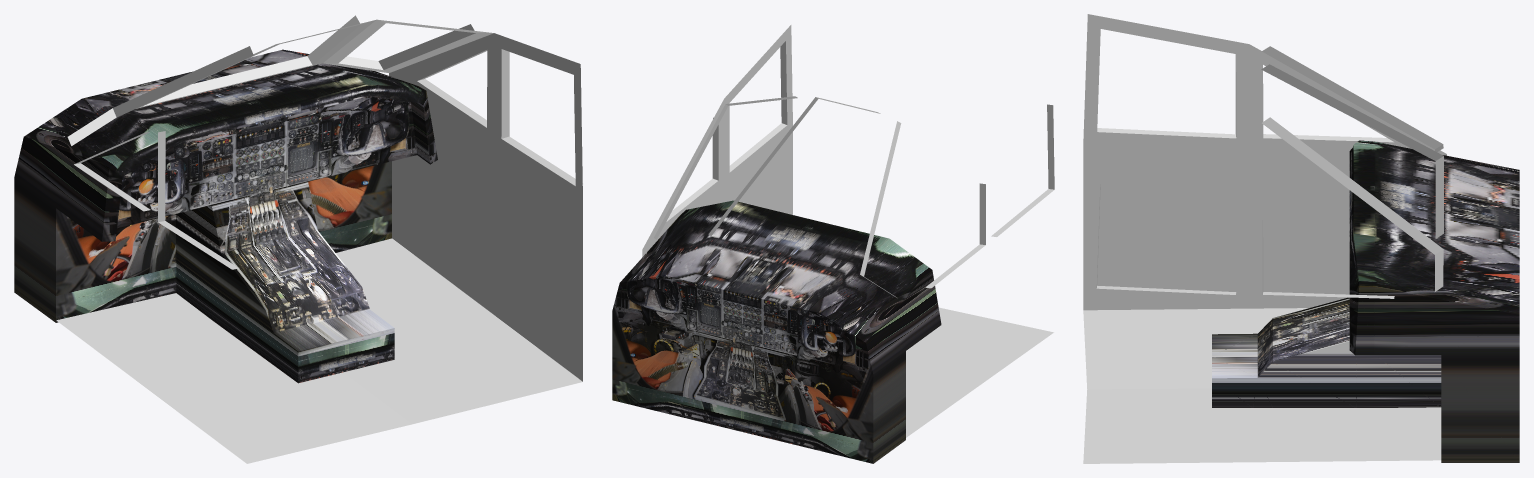
File: Valkyrie_02.glb
The picture shows the model from 3 angles, left to right: view 1: azimuth 30°, elevation 25°; view 2: azimuth 150°, elevation 25°; view 3: azimuth 270°, elevation 25°; orthographic projection. The views are drawn at different scales.
Parts seen in each view (by area): view 1: Plane, Cube; view 2: Cube, Plane; view 3: Plane, Cube.
Boxes of the visible parts, box(x1,y1,x2,y2) form: Plane: box(56, 15, 582, 463); Cube: box(14, 49, 437, 383); Cube: box(612, 200, 941, 463); Plane: box(642, 25, 1054, 437); Plane: box(1083, 14, 1446, 463); Cube: box(1212, 140, 1519, 462).
Bounding box in the file's own units: 2.09 × 2.05 × 2.4.
1 material, 1 textured.
